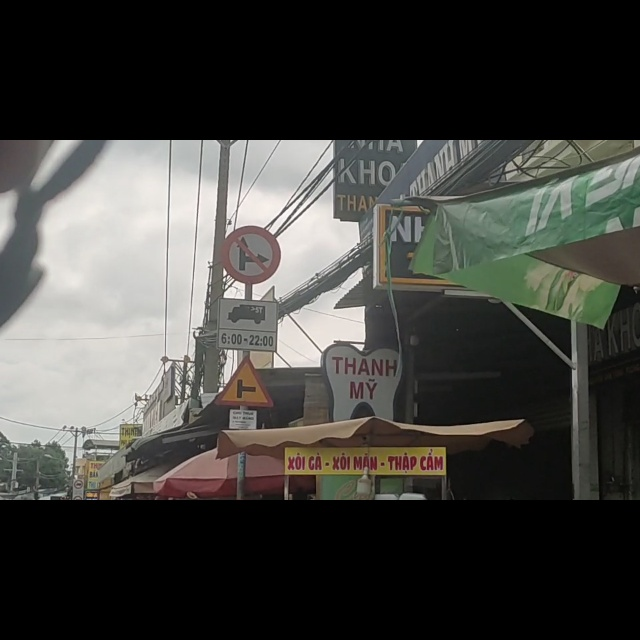bien_cam: (223, 153, 280, 256), (218, 277, 277, 370), (217, 383, 271, 474)
